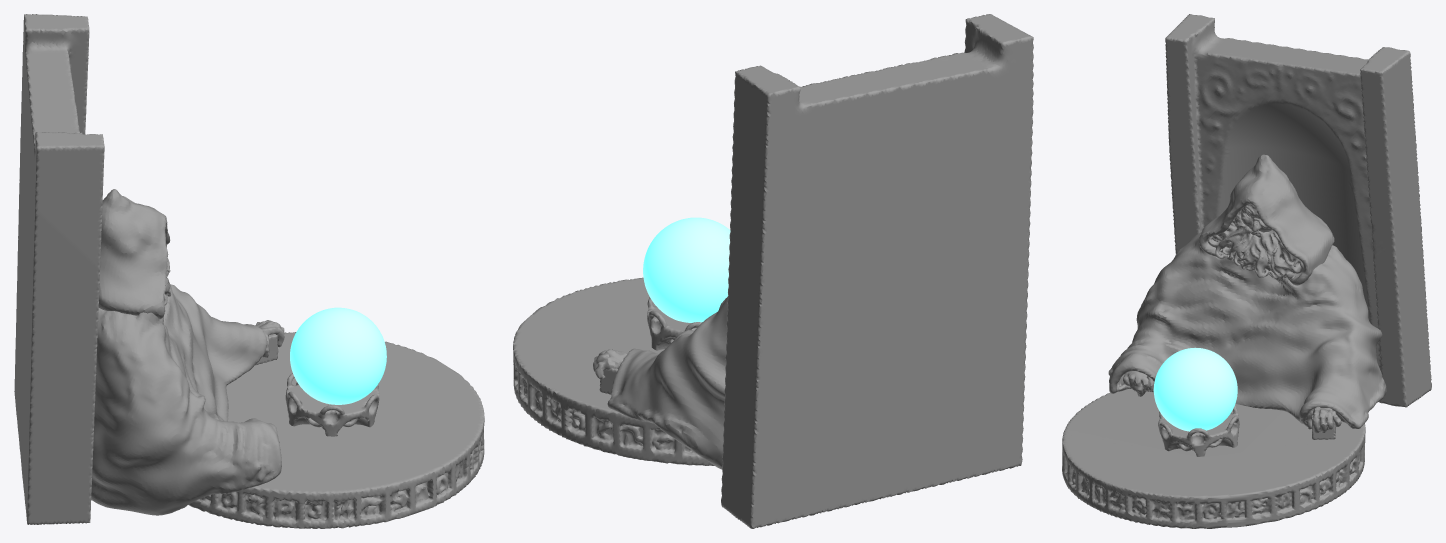
Rendered from orb_pondering.glb.
The picture shows the model from 3 angles, left to right: view 1: azimuth 30°, elevation 25°; view 2: azimuth 150°, elevation 25°; view 3: azimuth 270°, elevation 25°; orthographic projection. The views are drawn at different scales.
Visible parts, largest first — view 1: OrbPonderingNoOrbFullRes_2, Sphere_3; view 2: OrbPonderingNoOrbFullRes_2, Sphere_3; view 3: OrbPonderingNoOrbFullRes_2, Sphere_3.
Boxes of the visible parts, x1,y1,x2,y2 form: OrbPonderingNoOrbFullRes_2: (14, 14, 484, 528); Sphere_3: (290, 307, 386, 404); OrbPonderingNoOrbFullRes_2: (513, 14, 1033, 528); Sphere_3: (643, 217, 730, 322); OrbPonderingNoOrbFullRes_2: (1062, 14, 1431, 528); Sphere_3: (1153, 347, 1237, 431).
Size of the model in its own units: 141 by 123 by 119.
